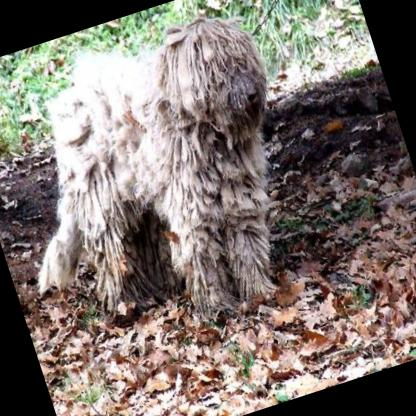komondor: (0, 0, 337, 375)
